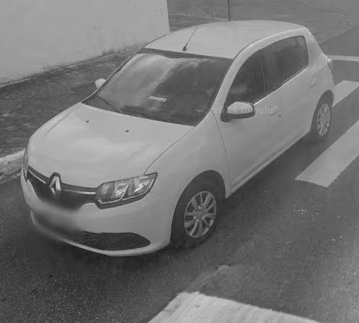car: (18, 10, 337, 262)
